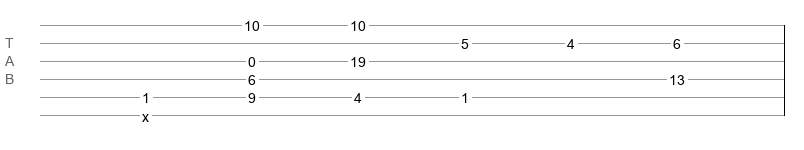0: (248, 54, 256, 64)
1: (142, 90, 150, 100), (461, 90, 469, 100)
10: (244, 18, 260, 28), (350, 18, 366, 28)
13: (669, 72, 685, 82)
19: (350, 54, 366, 64)
4: (354, 90, 362, 100), (567, 36, 575, 46)
5: (461, 36, 469, 46)
6: (248, 72, 256, 82), (673, 36, 681, 46)
9: (248, 90, 256, 100)
x: (142, 109, 149, 117)
